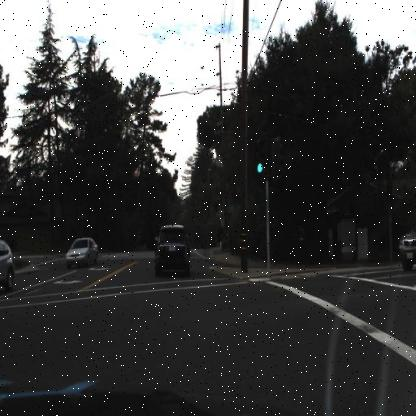car: (151, 218, 193, 282), (62, 234, 99, 270), (397, 214, 415, 276), (0, 237, 15, 295)
trafficLight-Green: (254, 140, 264, 176)
